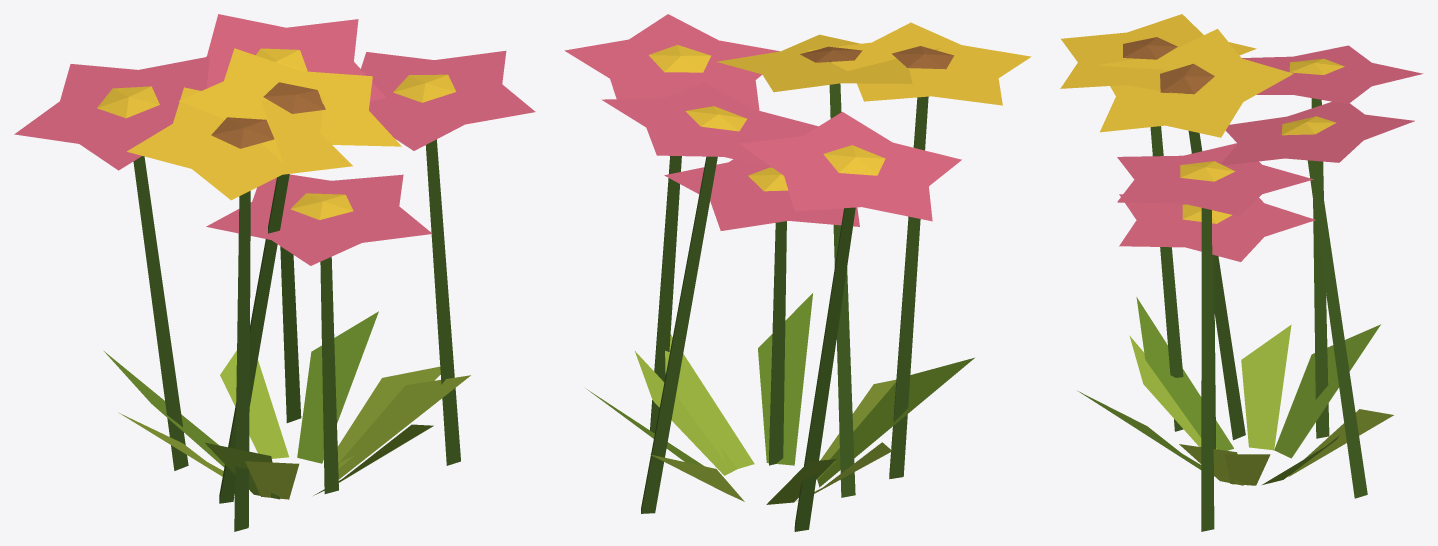
File: fleurs_roses.glb
3 renders of one model, left to right at view 1: azimuth 30°, elevation 25°; view 2: azimuth 150°, elevation 25°; view 3: azimuth 270°, elevation 25°, orthographic. The views are drawn at different scales.
Parts seen in each view (by area): view 1: fleurs_roses; view 2: fleurs_roses; view 3: fleurs_roses.
Boxes of the visible parts, x1,y1,x2,y2 form: fleurs_roses: [14, 14, 535, 531]; fleurs_roses: [564, 14, 1031, 531]; fleurs_roses: [1060, 14, 1423, 531].
Size of the model in its own units: 0.4153 by 0.388 by 0.3332.
